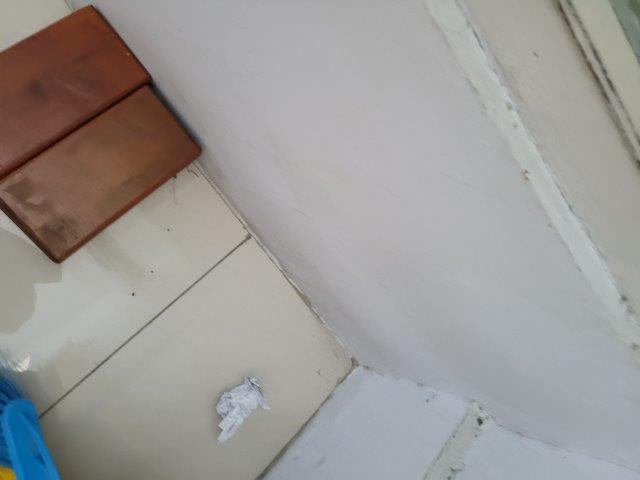kertas: (208, 378, 270, 445)
